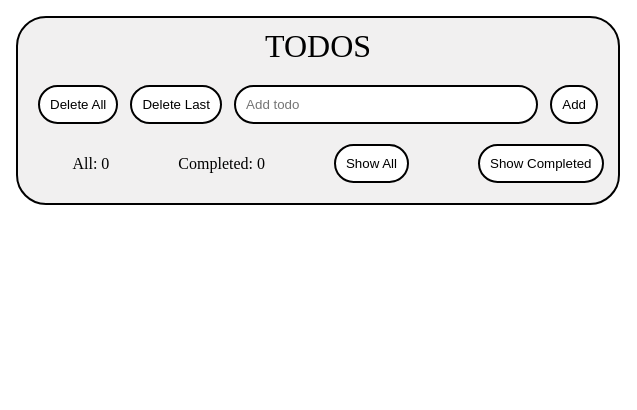
Test: test todo › delete all deletes
Type "cleaning" into the field with test id "cypress-input" at (386, 105), box top-left (234, 85), bottom-right (538, 124)
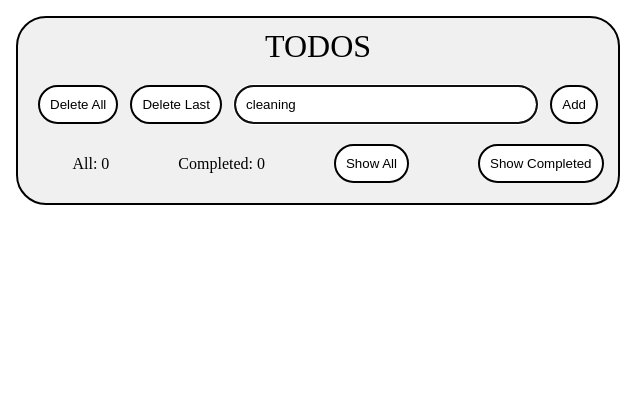
Click the button with test id "cypress-addBtn" at (574, 105), box top-left (550, 85), bottom-right (598, 124)
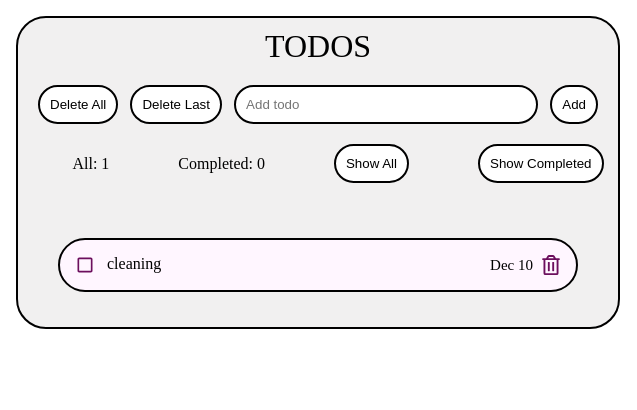
Type "reading" into the field with test id "cypress-input" at (386, 105), box top-left (234, 85), bottom-right (538, 124)
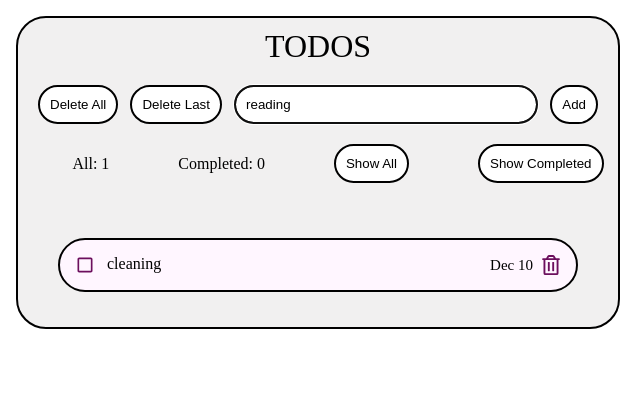
Click the button with test id "cypress-addBtn" at (574, 105), box top-left (550, 85), bottom-right (598, 124)
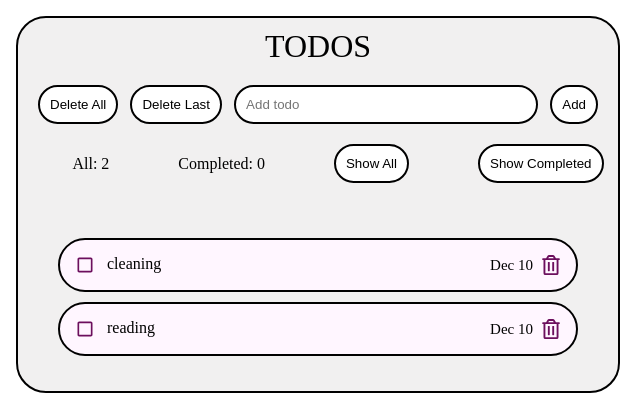
Expected: the element with test id "cypress-cardContainer" is shown, top-left (48, 238), bottom-right (588, 356)
Click the button with test id "cypress-deleteAllBtn" at (78, 105), box top-left (38, 85), bottom-right (118, 124)
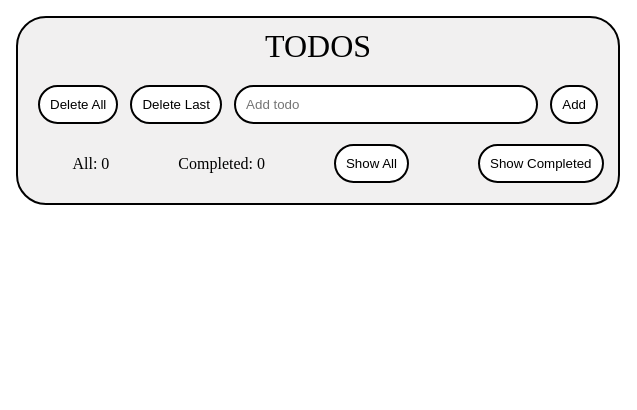
Expected: the element with test id "cypress-cardContainer" is gone
